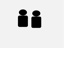human: (30, 9, 42, 28), (17, 8, 28, 26)
